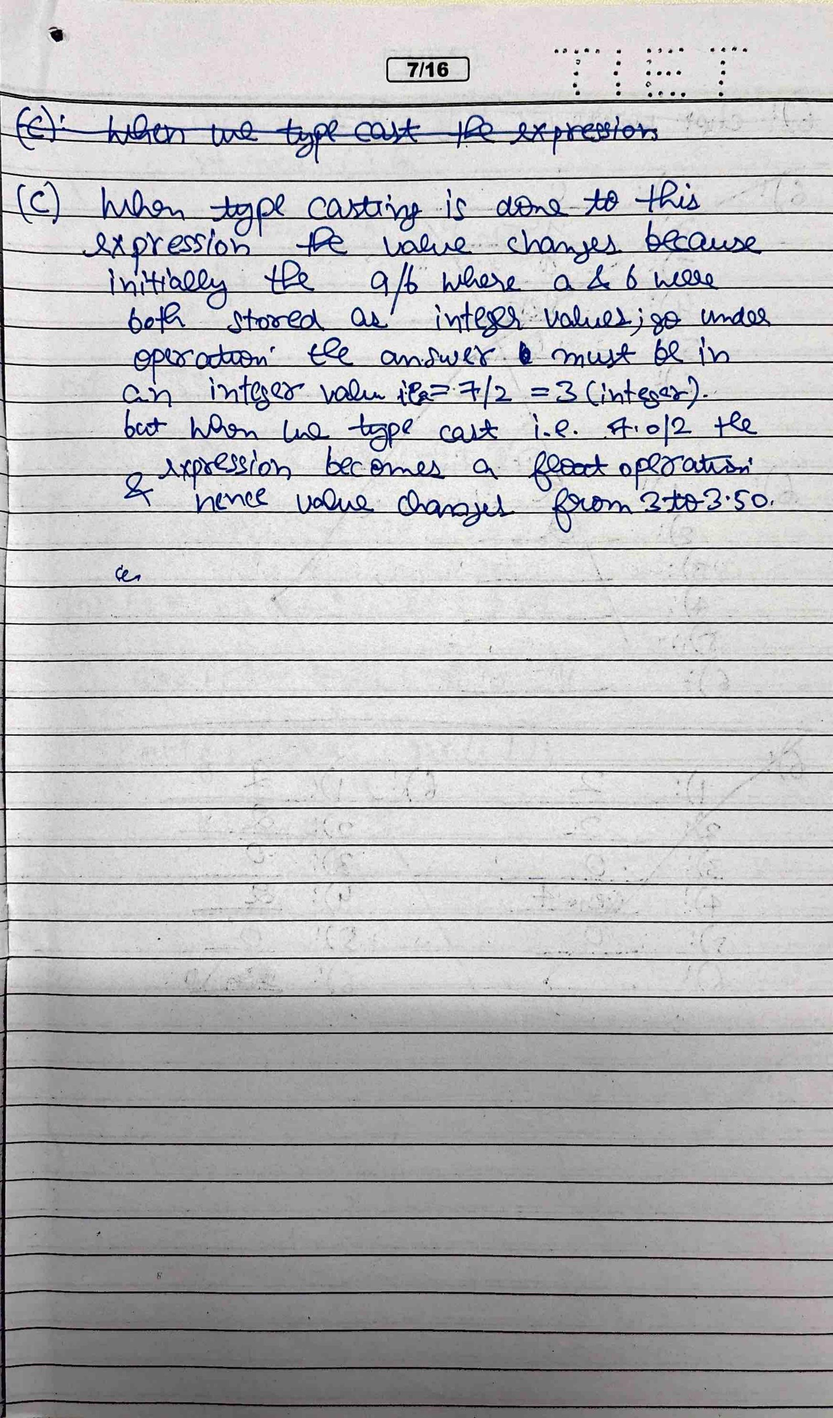cuttings: (12, 102, 662, 165), (518, 340, 534, 368)
